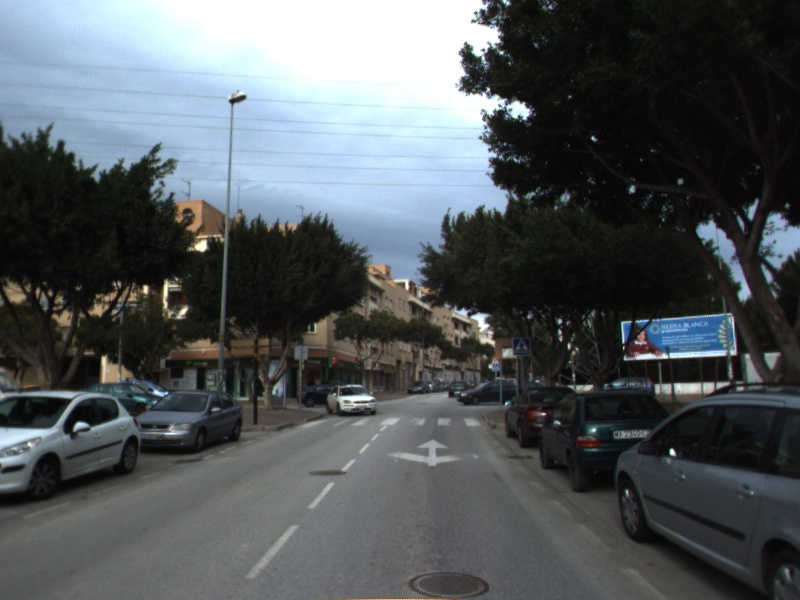STRAIGHT_LEFT_RIGHT: (385, 436, 482, 468)
